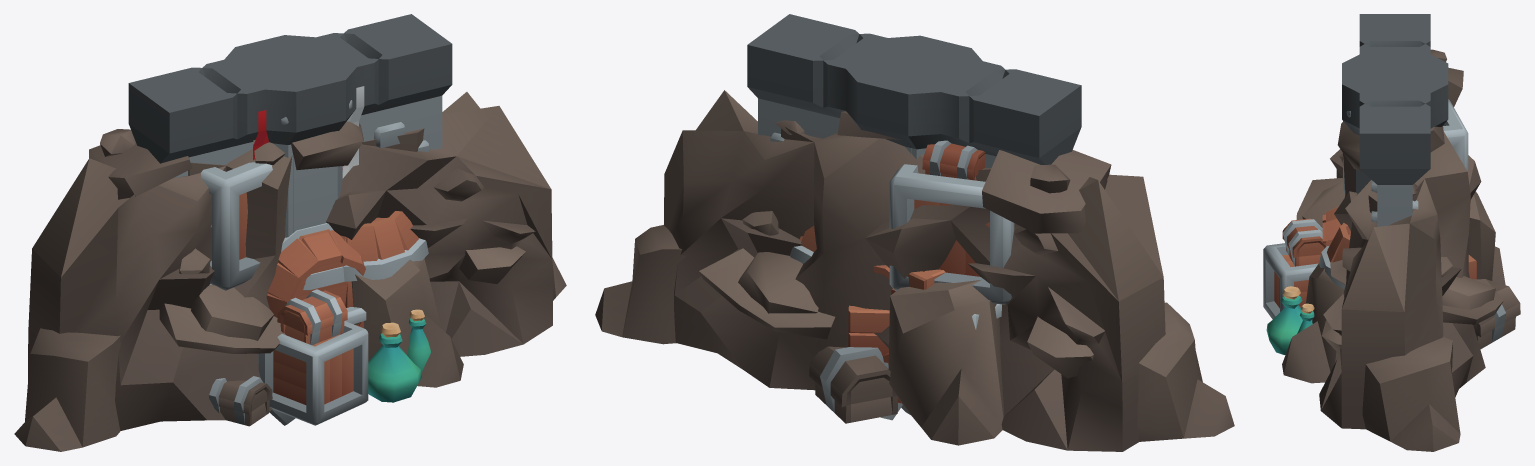
Rendered from props.glb.
The picture shows the model from 3 angles, left to right: view 1: azimuth 30°, elevation 25°; view 2: azimuth 150°, elevation 25°; view 3: azimuth 270°, elevation 25°; orthographic projection. The views are drawn at different scales.
Parts seen in each view (by area): view 1: rubble_large, wall_pillar, box_stacked, pillar, keg, banner_patternA_red, barrel_large; view 2: rubble_large, wall_pillar, box_stacked, pillar, crates_stacked; view 3: rubble_large, wall_pillar, box_stacked, pillar, keg.
Boxes of the visible parts, left/top/right/bottom form: rubble_large: left=14, top=92, right=566, bottom=451; wall_pillar: left=128, top=14, right=452, bottom=237; box_stacked: left=201, top=162, right=430, bottom=426; pillar: left=239, top=37, right=341, bottom=232; keg: left=266, top=223, right=365, bottom=328; banner_patternA_red: left=253, top=86, right=364, bottom=178; barrel_large: left=299, top=229, right=344, bottom=296; rubble_large: left=595, top=90, right=1234, bottom=451; wall_pillar: left=747, top=14, right=1081, bottom=167; box_stacked: left=790, top=140, right=1014, bottom=423; pillar: left=861, top=37, right=967, bottom=153; crates_stacked: left=848, top=269, right=945, bottom=403; rubble_large: left=1282, top=49, right=1505, bottom=451; wall_pillar: left=1342, top=14, right=1448, bottom=226; box_stacked: left=1263, top=99, right=1520, bottom=354; pillar: left=1342, top=64, right=1448, bottom=192; keg: left=1322, top=206, right=1341, bottom=246.
Bounding box in the file's own units: 8.13 × 4.79 × 3.63.
Materials: 17 (17 with a texture image).
